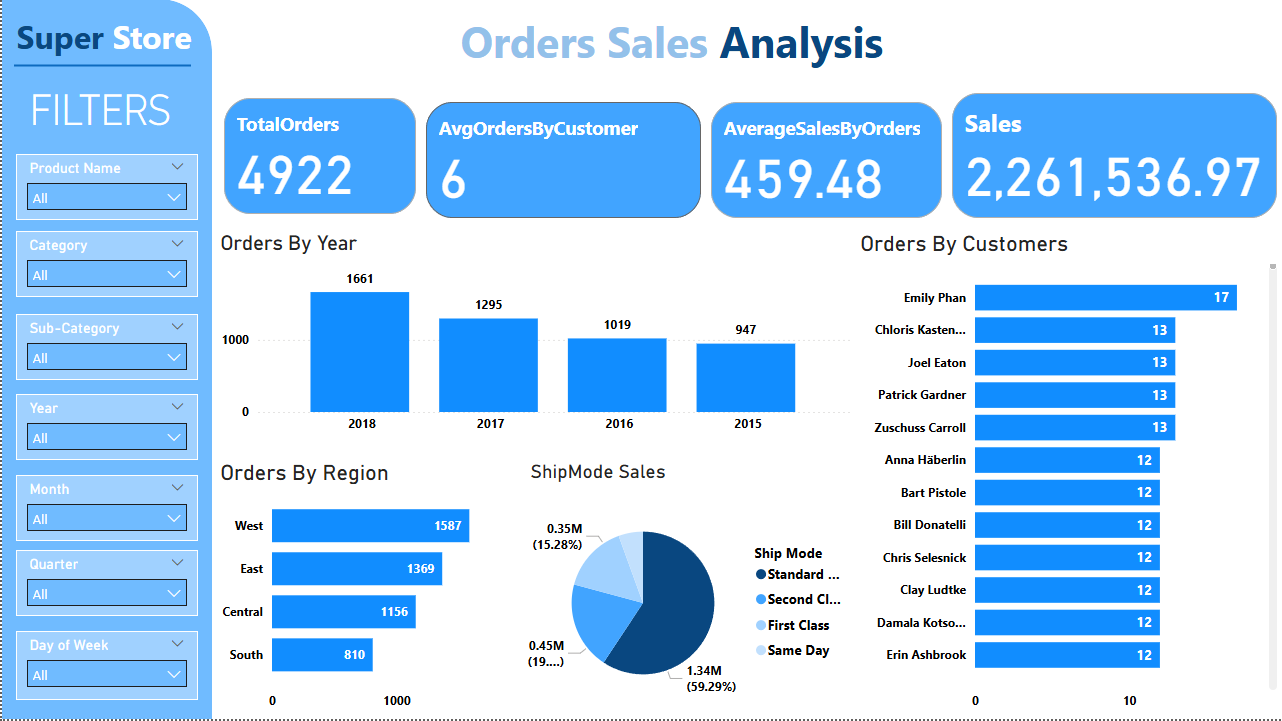

What the dashboard file says about the page in this screenshot:
{"tool":"powerbi","page":{"name":"Orders","canvas":[1280,720],"ordinal":2},"visuals":[{"type":"shape","box":[0,0,210,720],"z":0},{"type":"cardVisual","fields":{"Data":["FactTable.AvgOrdersByCustomer"]},"box":[419,98,285,126],"z":1000},{"type":"textbox","box":[454,8,532,90],"z":2000},{"type":"cardVisual","fields":{"Data":["FactTable.TotalSales","FactTable.TotalSales"]},"box":[945,89,335,135],"z":3000},{"type":"barChart","title":"Orders By Customers","fields":{"Category":["DimCustomer.Customer Name"],"Y":["FactTable.TotalOrders","FactTable.TotalOrders"]},"box":[854,232,426,488],"z":4000},{"type":"pieChart","title":"ShipMode Sales","fields":{"Category":["DimOrders.Ship Mode"],"Y":["FactTable.TotalSales"]},"box":[524,461,330,259],"z":5000},{"type":"barChart","title":"Orders By Region","fields":{"Category":["DimAddress.Region"],"Y":["FactTable.TotalOrders"]},"box":[214,461,310,259],"z":6000},{"type":"columnChart","title":"Orders By Year","fields":{"Y":["FactTable.TotalOrders"],"Category":["DimDate.Year"]},"box":[214,232,640,211],"z":7000},{"type":"cardVisual","fields":{"Data":["FactTable.TotalOrders"]},"box":[217,94,202,126],"z":8000},{"type":"cardVisual","fields":{"Data":["FactTable.AverageSalesByOrders"]},"box":[704,98,241,126],"z":9000},{"type":"slicer","fields":{"Values":["DimProduct.Category"]},"box":[14,232,182,66],"z":9001},{"type":"slicer","fields":{"Values":["DimDate.Month"]},"box":[14,476,182,66],"z":9002},{"type":"slicer","fields":{"Values":["DimDate.Quarter"]},"box":[14,551,182,66],"z":9003},{"type":"slicer","fields":{"Values":["DimDate.Day of Week"]},"box":[14,632,182,69],"z":9004},{"type":"slicer","fields":{"Values":["DimProduct.Product Name"]},"box":[14,155,182,66],"z":9005},{"type":"slicer","fields":{"Values":["DimProduct.Sub-Category"]},"box":[14,315,182,66],"z":9006},{"type":"slicer","fields":{"Values":["DimDate.Year"]},"box":[14,395,182,66],"z":9007},{"type":"shape","box":[12,44,177,45],"z":9008},{"type":"textbox","box":[12,81,177,60],"z":9009},{"type":"textbox","box":[10,10,226,67],"z":9010}]}

Visuals, with their boxes in screenshot pixels (x1, y1, x2, y2), scaled from the page's 1280x720 canvas onto the 1282x721 screenshot:
shape: [0, 0, 210, 720]
cardVisual - FactTable.AvgOrdersByCustomer: [420, 98, 705, 224]
textbox: [455, 8, 988, 98]
cardVisual - FactTable.TotalSales x FactTable.TotalSales: [946, 89, 1281, 224]
"Orders By Customers" barChart: [855, 232, 1281, 720]
"ShipMode Sales" pieChart: [525, 462, 855, 720]
"Orders By Region" barChart: [214, 462, 525, 720]
"Orders By Year" columnChart: [214, 232, 855, 444]
cardVisual - FactTable.TotalOrders: [217, 94, 420, 220]
cardVisual - FactTable.AverageSalesByOrders: [705, 98, 946, 224]
slicer - DimProduct.Category: [14, 232, 196, 298]
slicer - DimDate.Month: [14, 477, 196, 543]
slicer - DimDate.Quarter: [14, 552, 196, 618]
slicer - DimDate.Day of Week: [14, 633, 196, 702]
slicer - DimProduct.Product Name: [14, 155, 196, 221]
slicer - DimProduct.Sub-Category: [14, 315, 196, 382]
slicer - DimDate.Year: [14, 396, 196, 462]
shape: [12, 44, 189, 89]
textbox: [12, 81, 189, 141]
textbox: [10, 10, 236, 77]
